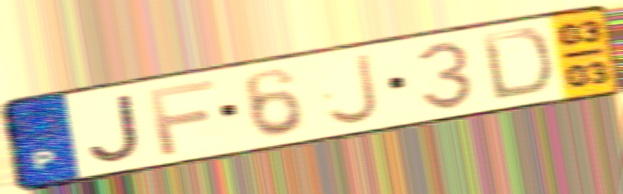3: (408, 38, 477, 112)
6: (240, 65, 307, 141)
D: (476, 26, 555, 104)
F: (144, 76, 219, 159)
J: (323, 50, 384, 128), (85, 91, 145, 165)
